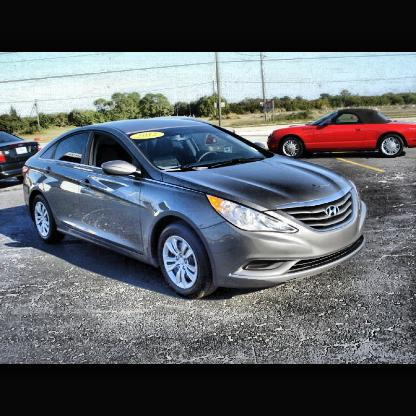Hyundai Sonata Sedan 2012: (26, 117, 369, 302)
